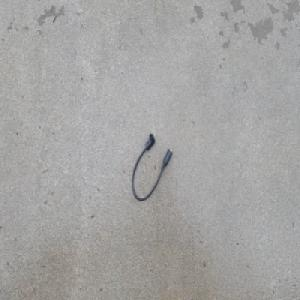Wire: (131, 131, 173, 203)
